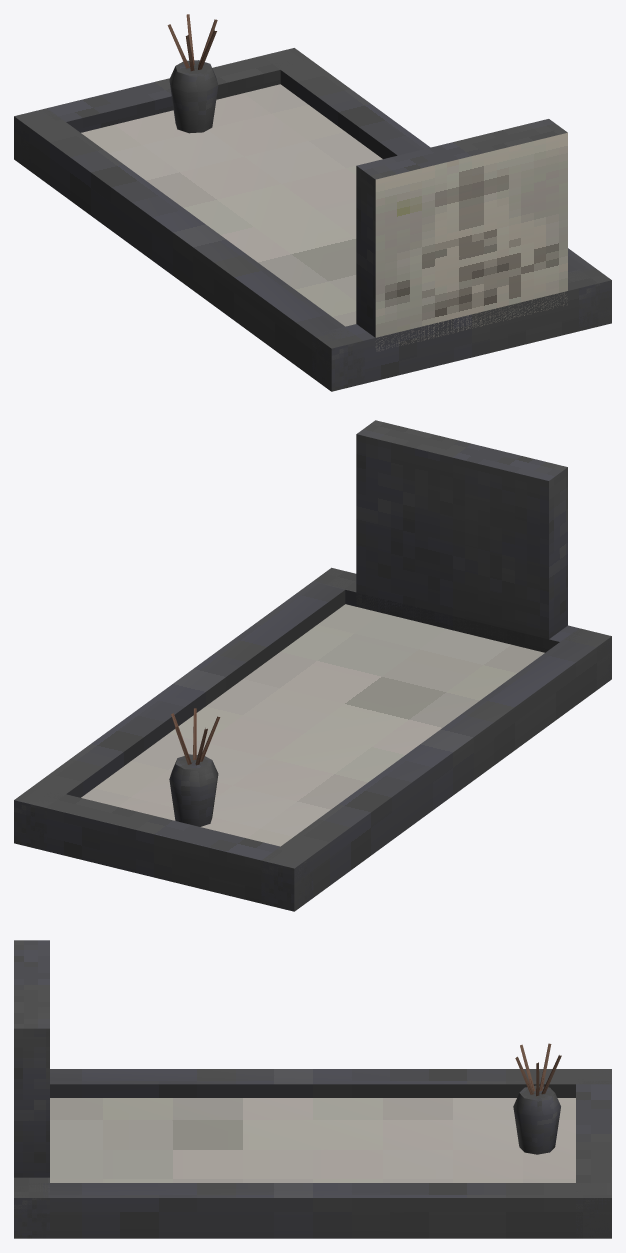
File: grave_kerbed.glb
3 renders of one model, top to bottom at view 1: azimuth 30°, elevation 25°; view 2: azimuth 150°, elevation 25°; view 3: azimuth 270°, elevation 25°, orthographic. The views are drawn at different scales.
Parts seen in each view (by area): view 1: grave_kerbed; view 2: grave_kerbed; view 3: grave_kerbed.
Part boxes in pixels (x1=…): grave_kerbed: x1=14, y1=14, x2=611, y2=391; grave_kerbed: x1=14, y1=420, x2=611, y2=911; grave_kerbed: x1=14, y1=940, x2=611, y2=1238.
Size of the model in its own units: 1.02 by 0.7 by 2.
Materials: 1 (1 with a texture image).
